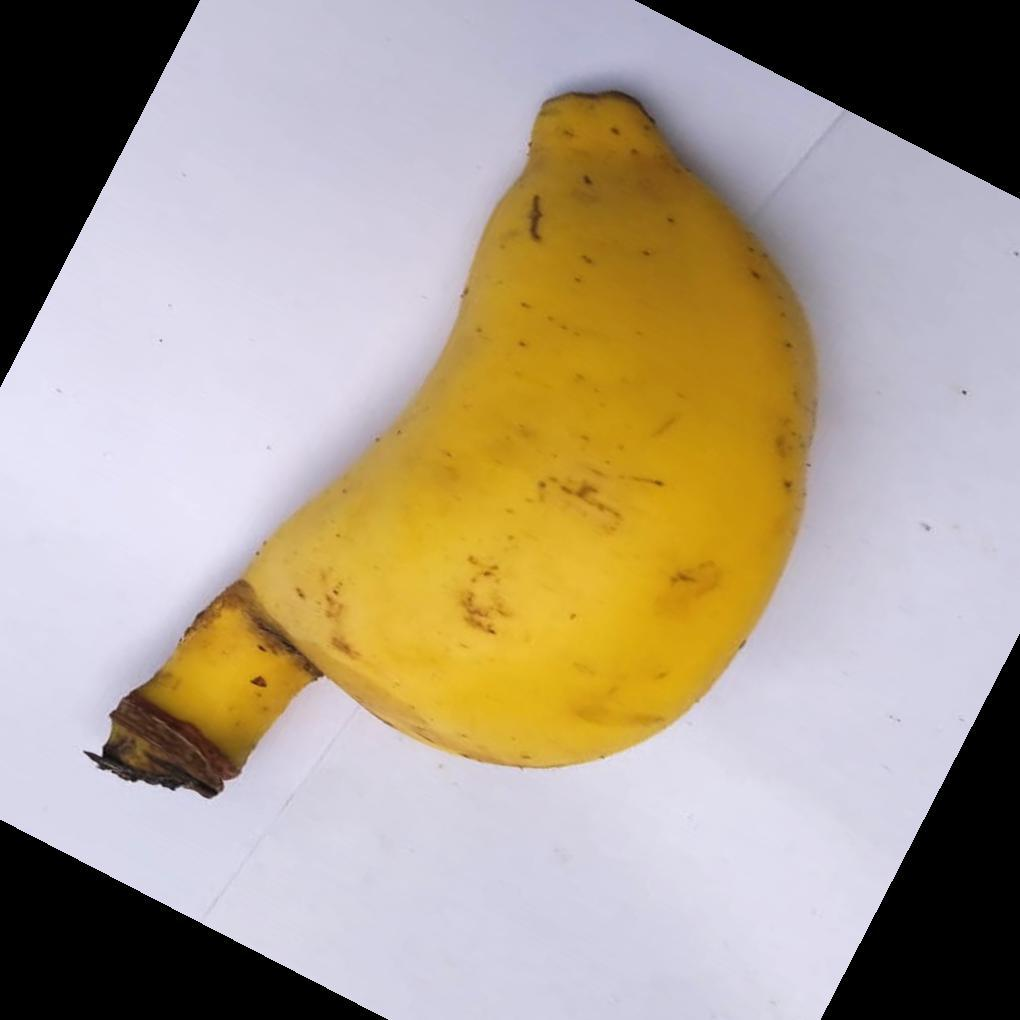Banana Ripe: (121, 86, 852, 847)
